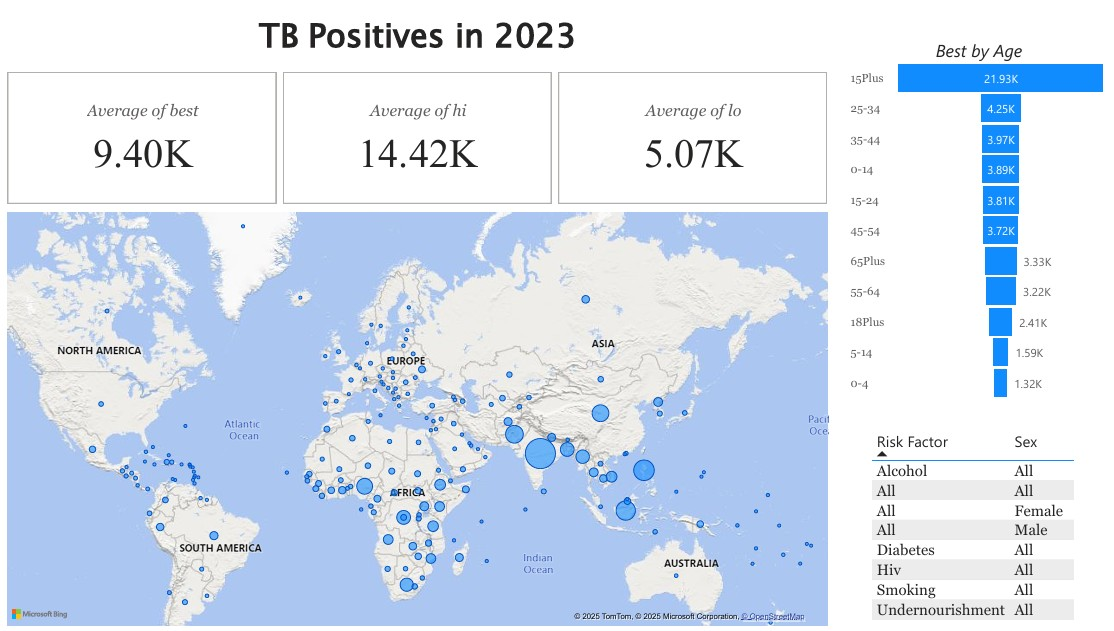

The page's visual inventory and layout, read from the dashboard file:
{"tool":"powerbi","page":{"name":"Page 1","canvas":[1280,720],"ordinal":0},"visuals":[{"type":"map","fields":{"Category":["TB_burden_age_sex_2025-03-06.country"],"Size":["Avg(TB_burden_age_sex_2025-03-06.hi)"]},"box":[0,232.5,957.5,487.5],"z":0},{"type":"cardVisual","fields":{"Data":["Avg(TB_burden_age_sex_2025-03-06.best)","Avg(TB_burden_age_sex_2025-03-06.hi)","Avg(TB_burden_age_sex_2025-03-06.lo)"]},"box":[0,70,957.5,162.5],"z":1000},{"type":"funnel","title":"Best by Age ","fields":{"Category":["TB_burden_age_sex_2025-03-06.age_group"],"Y":["Avg(TB_burden_age_sex_2025-03-06.best)"]},"box":[973.4,35.5,306.9,423.1],"z":2000},{"type":"tableEx","fields":{"Values":["TB_burden_age_sex_2025-03-06.risk_factor","TB_burden_age_sex_2025-03-06.sex"]},"box":[997.5,482.5,267.5,237.5],"z":3000},{"type":"textbox","box":[182.5,0,592.5,70],"z":4000}]}

Visuals, with their boxes in screenshot pixels (x1, y1, x2, y2), scaled from the page's 1280x720 canvas onto the 1114x631 screenshot:
map - TB_burden_age_sex_2025-03-06.country x Avg(TB_burden_age_sex_2025-03-06.hi): left=0, top=204, right=833, bottom=630
cardVisual - Avg(TB_burden_age_sex_2025-03-06.best) x Avg(TB_burden_age_sex_2025-03-06.hi): left=0, top=61, right=833, bottom=204
"Best by Age " funnel: left=847, top=31, right=1113, bottom=402
tableEx - TB_burden_age_sex_2025-03-06.risk_factor x TB_burden_age_sex_2025-03-06.sex: left=868, top=423, right=1101, bottom=630
textbox: left=159, top=0, right=674, bottom=61
